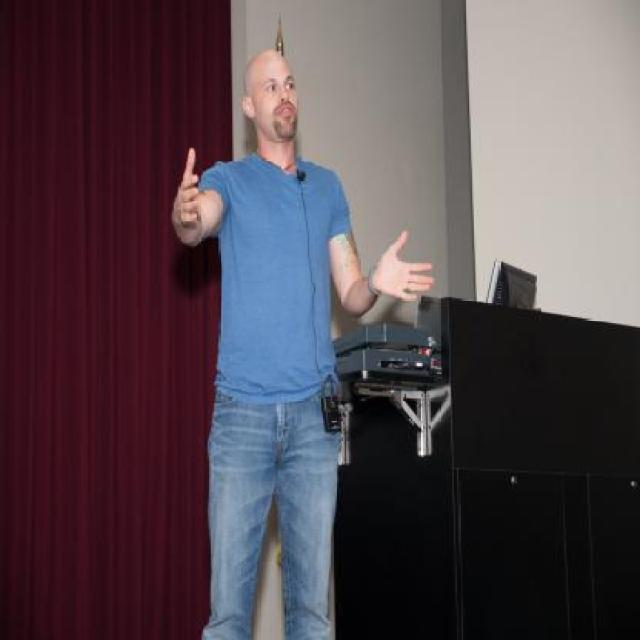Person: (169, 32, 391, 634)
